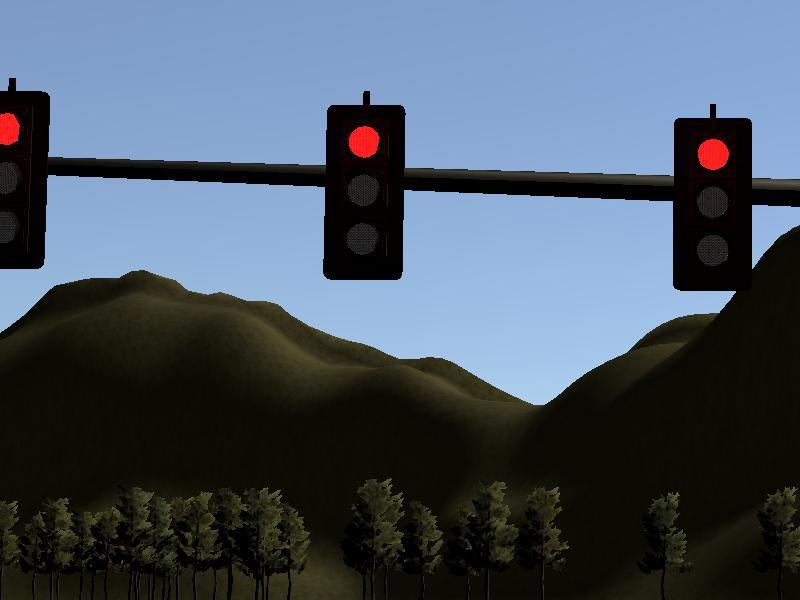Red: (324, 104, 406, 280), (673, 118, 752, 290), (1, 91, 49, 269)
